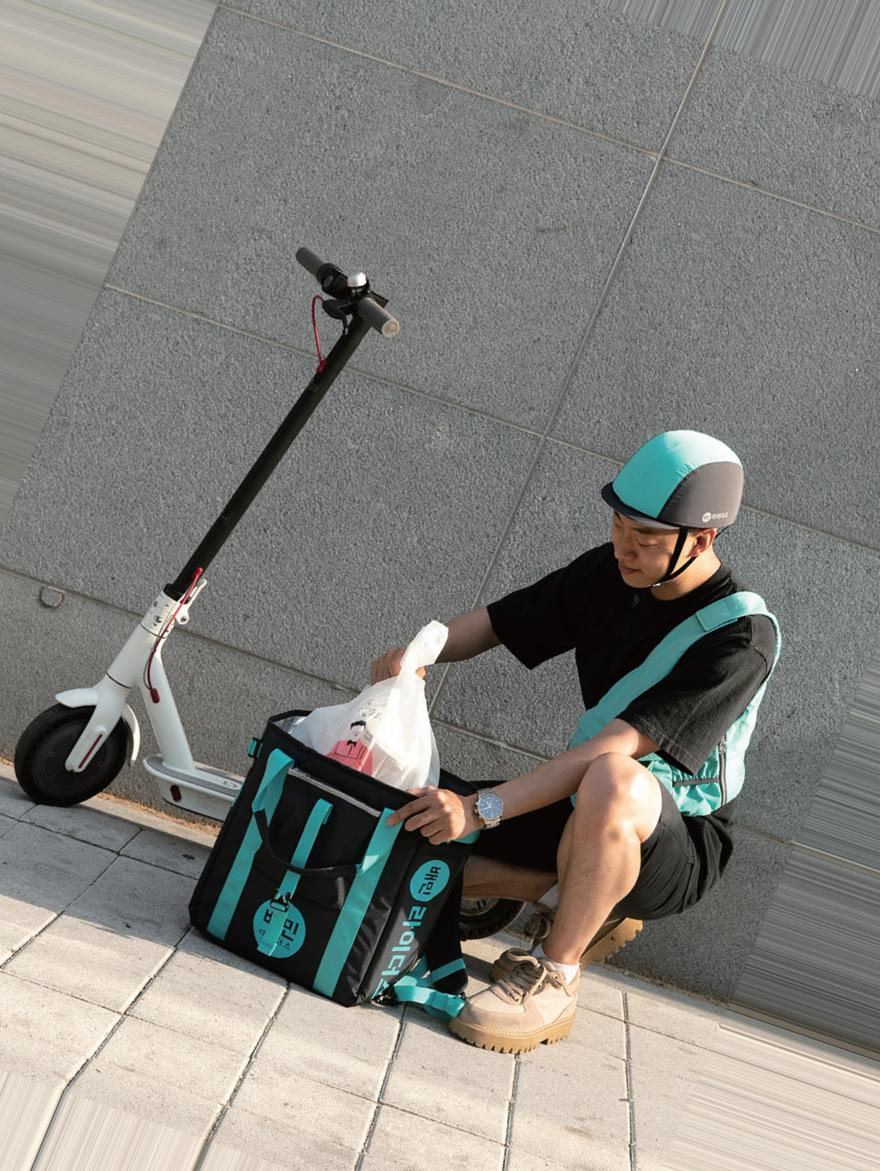scooter: (13, 247, 529, 942)
with helmet: (600, 422, 753, 590)
